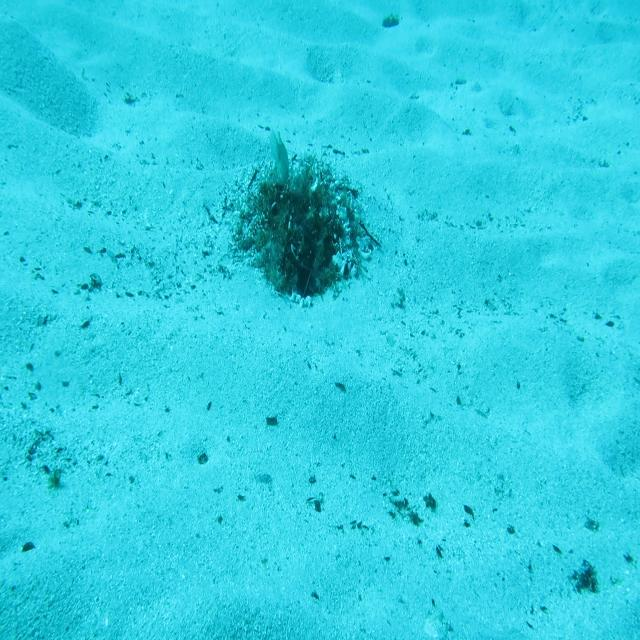NIP_IN: (271, 128, 291, 191)
core_nest: (284, 202, 324, 233)
nest: (239, 158, 374, 304)
